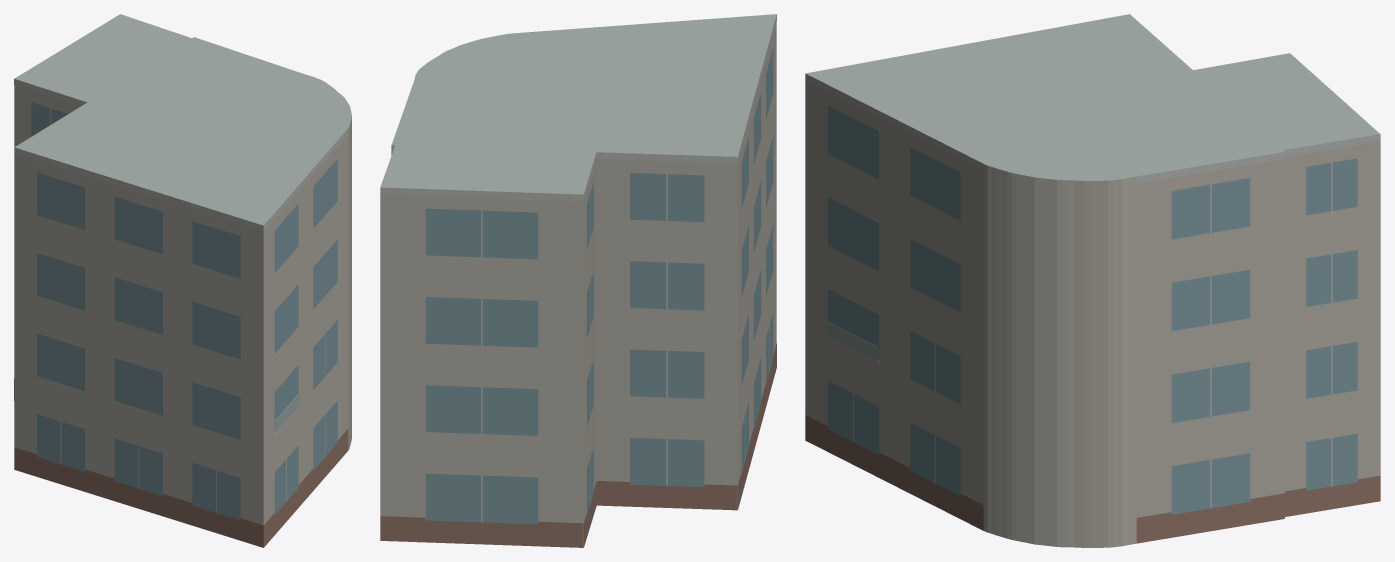
Rendered from survey-upis-32641181.glb.
3 views of the same model, side by side, from view 1: azimuth 30°, elevation 25°; view 2: azimuth 150°, elevation 25°; view 3: azimuth 270°, elevation 25° (orthographic). The views are drawn at different scales.
Parts seen in each view (by area): view 1: survey-upis-32641181.tmp; view 2: survey-upis-32641181.tmp; view 3: survey-upis-32641181.tmp.
Part boxes in pixels (box(x1,y1,x2,y2)): survey-upis-32641181.tmp: box(14, 14, 351, 547); survey-upis-32641181.tmp: box(380, 14, 776, 547); survey-upis-32641181.tmp: box(805, 14, 1380, 547).
Bounding box in the file's own units: 12.15 × 12.45 × 17.69.
